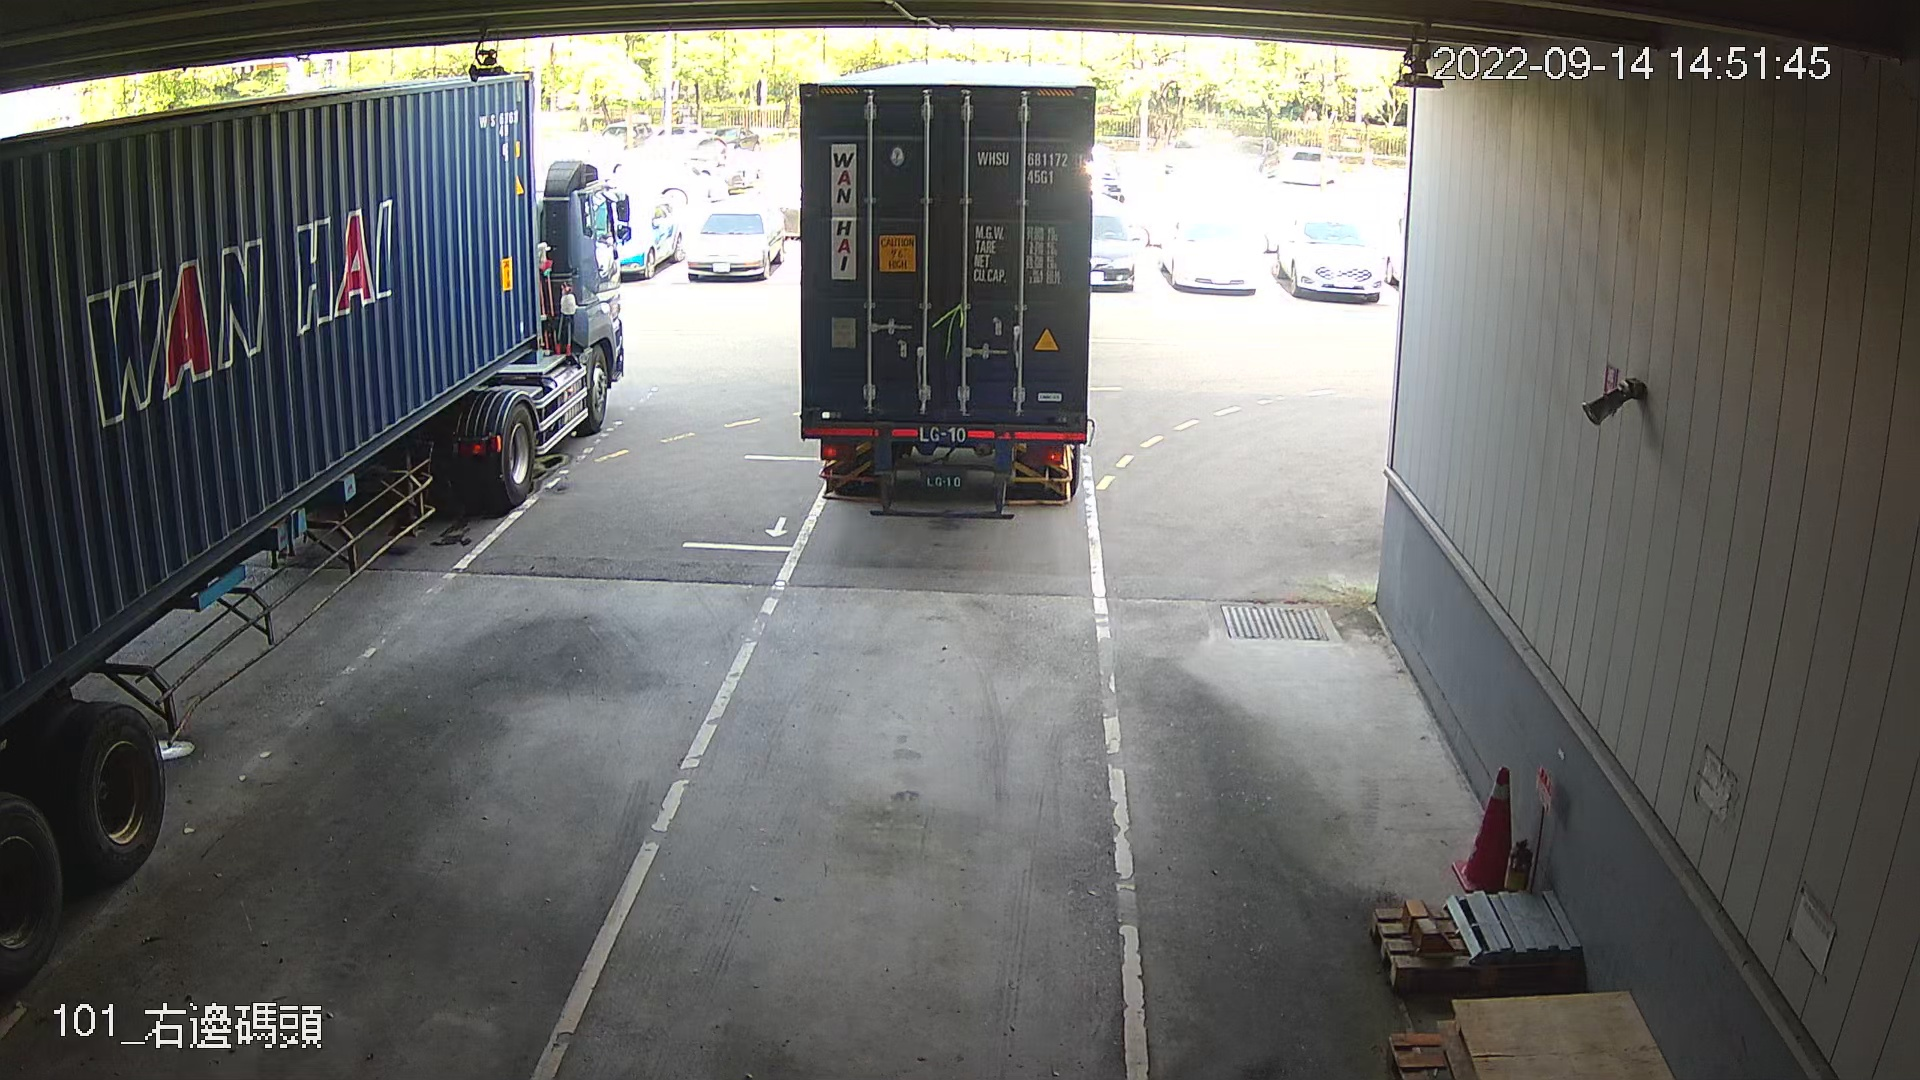container: (973, 145, 1087, 194)
